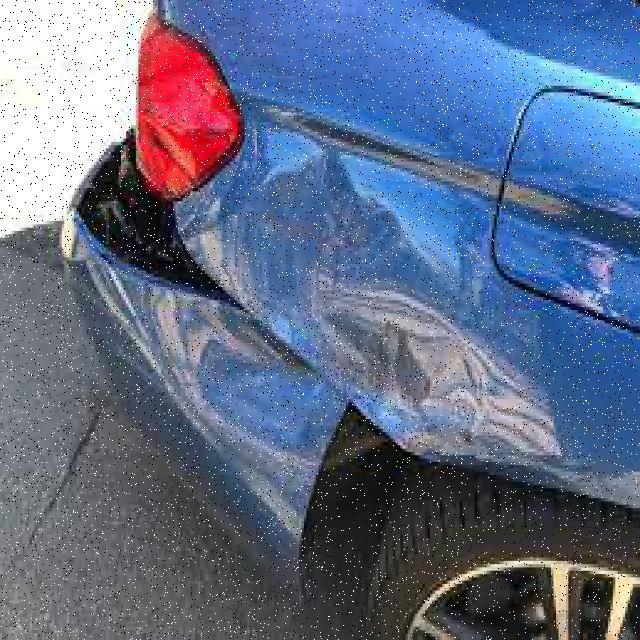quaterpanel-dent: (324, 23, 636, 521)
rear-bumper-dent: (54, 99, 318, 580)
